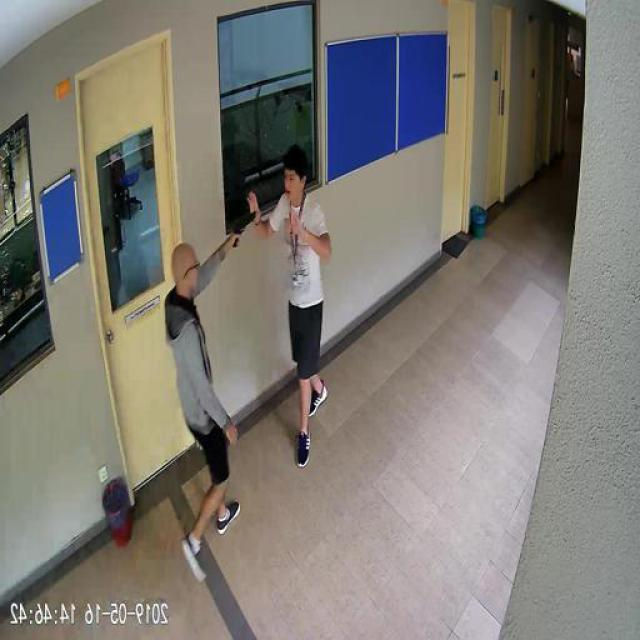Gun: (234, 209, 258, 245)
